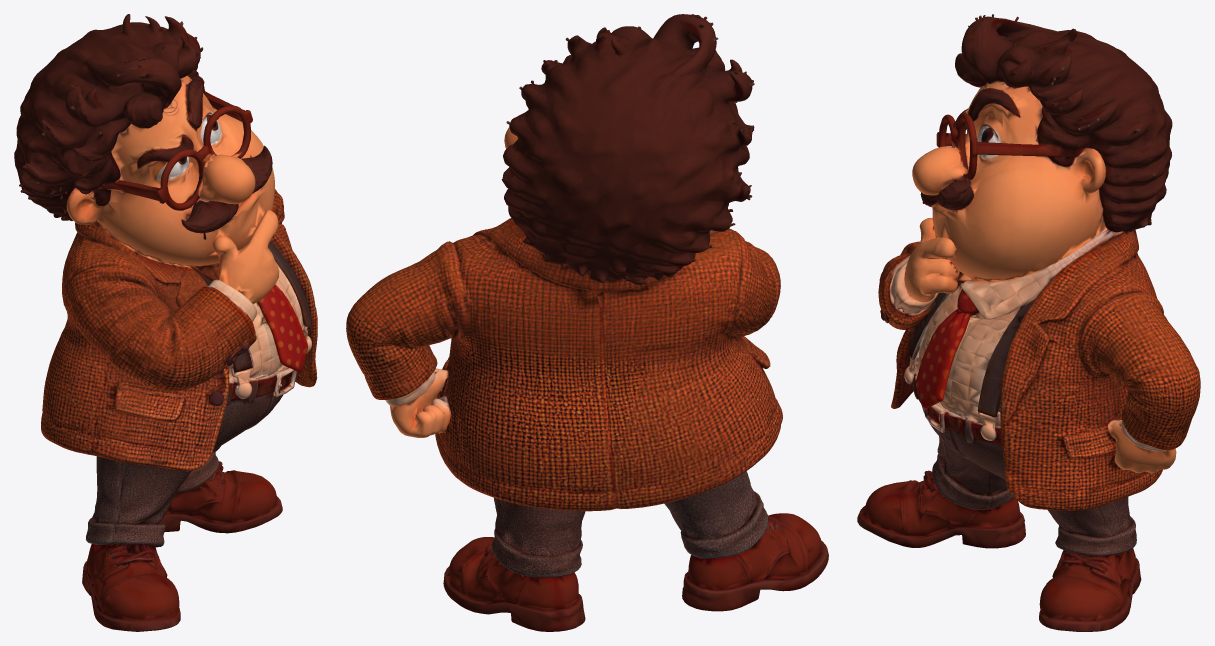
File: pensando.glb
3 views of the same model, side by side, from view 1: azimuth 30°, elevation 25°; view 2: azimuth 150°, elevation 25°; view 3: azimuth 270°, elevation 25° (orthographic). The views are drawn at different scales.
Parts seen in each view (by area): view 1: tripo_node_3c67f440-d8c4-4573-a394-ee48493ef1a7; view 2: tripo_node_3c67f440-d8c4-4573-a394-ee48493ef1a7; view 3: tripo_node_3c67f440-d8c4-4573-a394-ee48493ef1a7.
Part boxes in pixels (x1,y1,x2,y2): tripo_node_3c67f440-d8c4-4573-a394-ee48493ef1a7: (14,14,317,631); tripo_node_3c67f440-d8c4-4573-a394-ee48493ef1a7: (346,14,828,631); tripo_node_3c67f440-d8c4-4573-a394-ee48493ef1a7: (857,14,1200,631).
Bounding box in the file's own units: 0.5956 × 0.98 × 0.566.
1 material, 1 textured.
